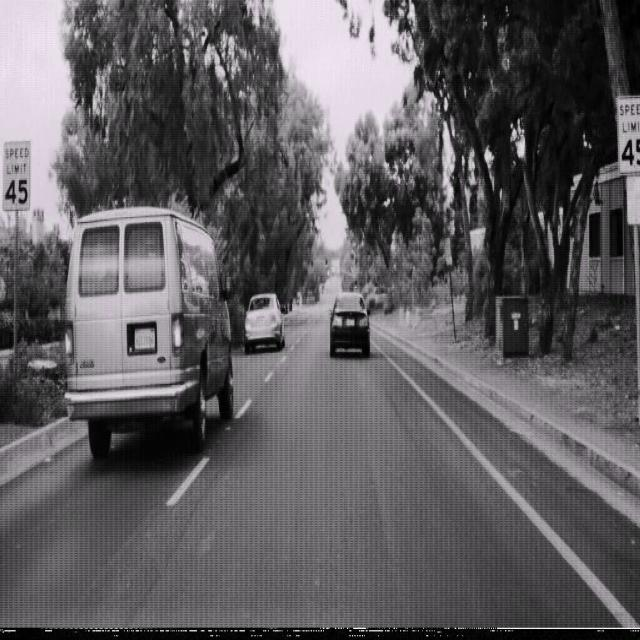speedLimit45: (1, 137, 32, 212)
